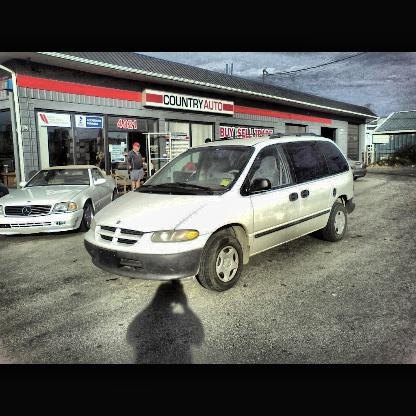Dodge Caravan Minivan 1997: (84, 138, 352, 292)
